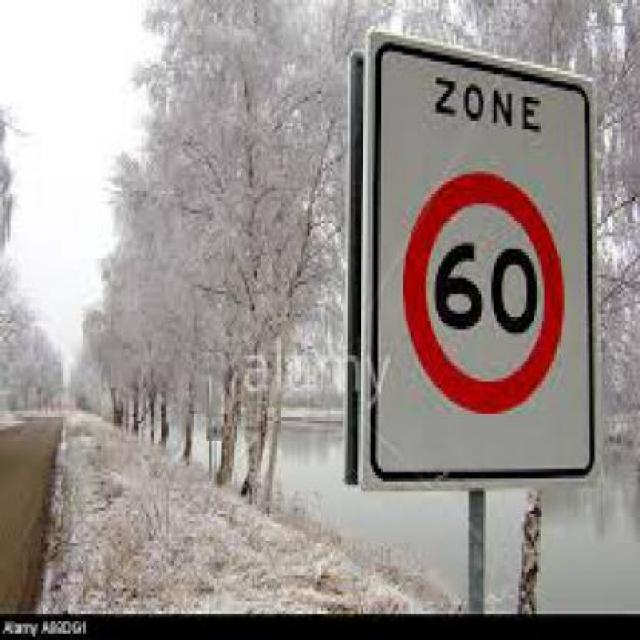speed_limit_60: (406, 171, 565, 414)
